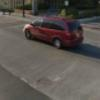cars: (22, 17, 83, 48)
